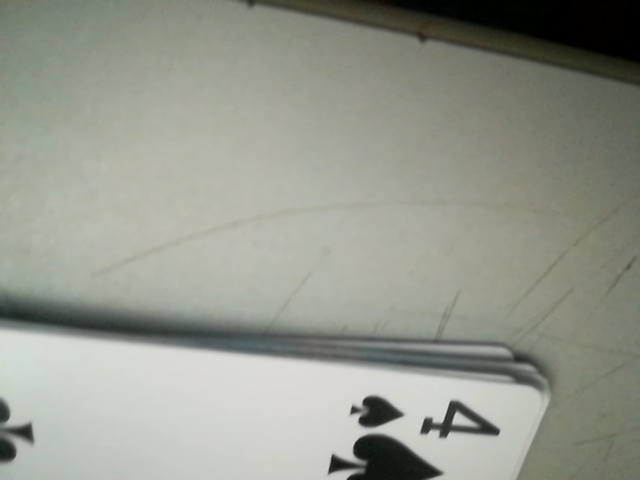ht 4: (342, 386, 512, 444)
